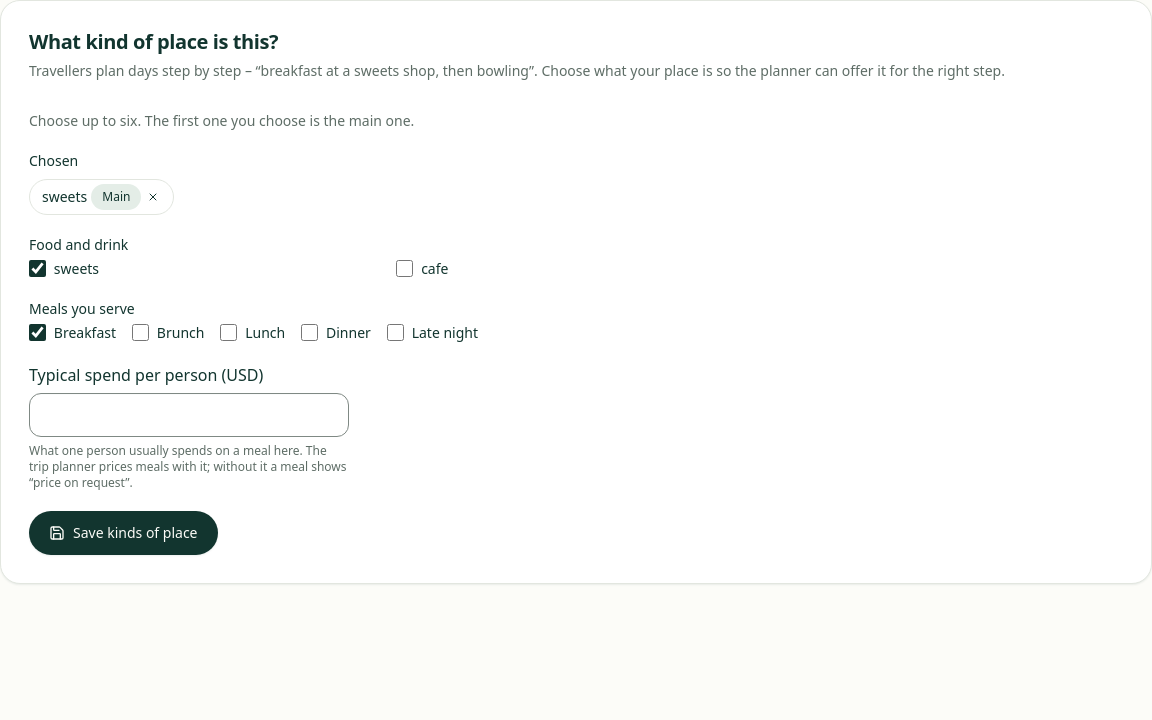
place types editor › offers only the kinds a restaurant can be, and saves meals
expect the checkbox labelled "sweets" is shown: met, box 29,260 -> 46,277
Step 1. Click the checkbox labelled "Dinner" → (310, 333), box 301,324 -> 318,341
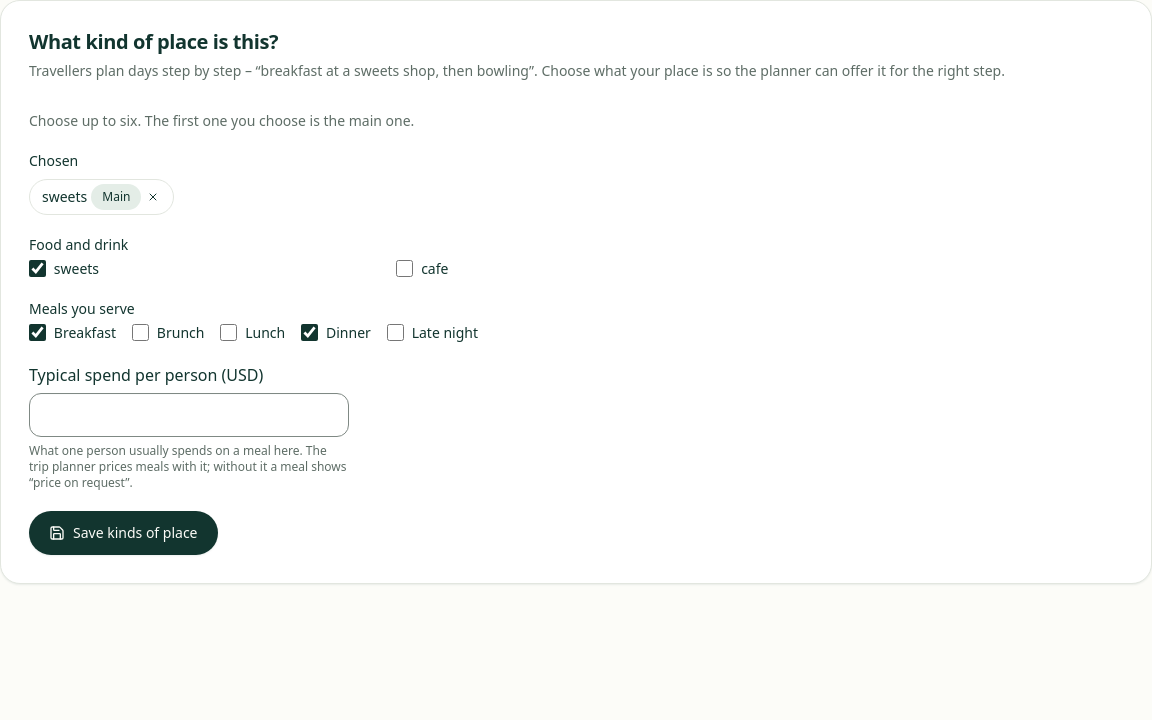
Step 2. Click the button "Save kinds of place" → (123, 533), box 29,511 -> 218,555
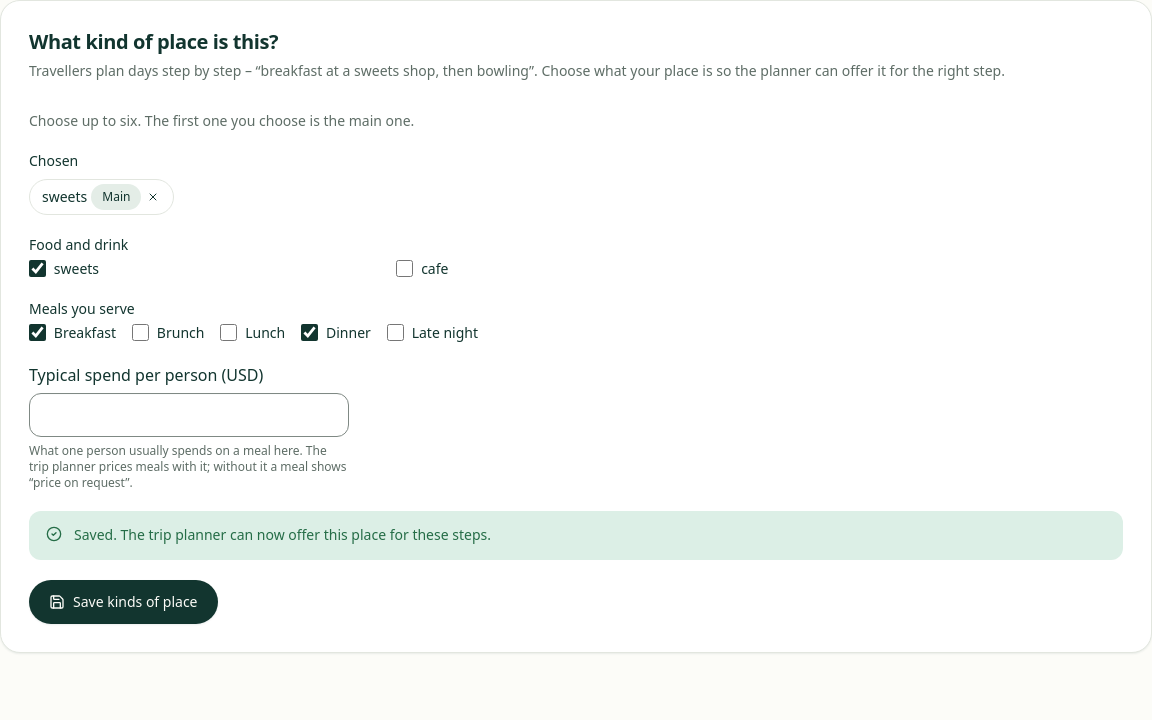
expect the message shows "Saved": met, box 74,525 -> 491,544
